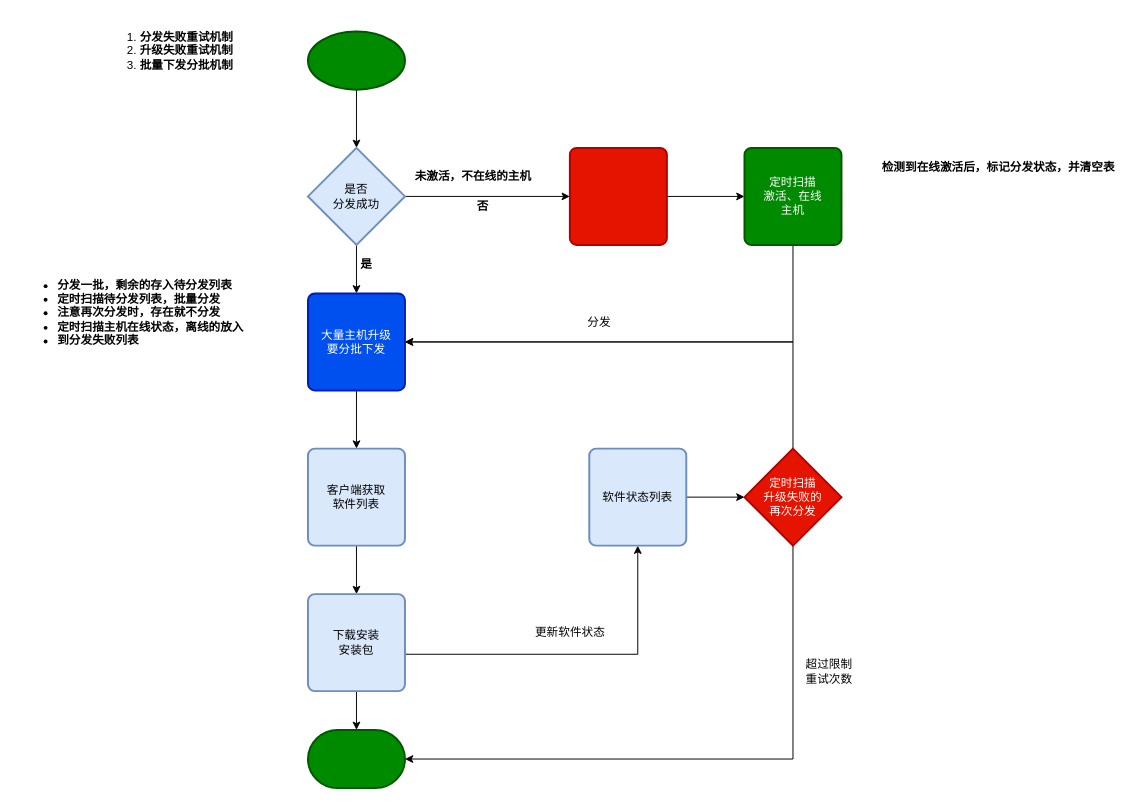
Image size: 1148x805. Some labels were removed from this diagram. The box of each missing label's shape, as (x1, y1, x2, y2) in pixels:
分发失败列表: (568, 146, 667, 245)
升级结束: (307, 728, 405, 789)
软件分发: (307, 30, 405, 90)
